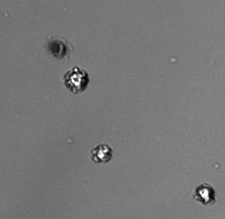Dead Cell: (48, 38, 67, 59)
Living Cell: (64, 65, 91, 94), (194, 181, 216, 205), (90, 143, 113, 164)
